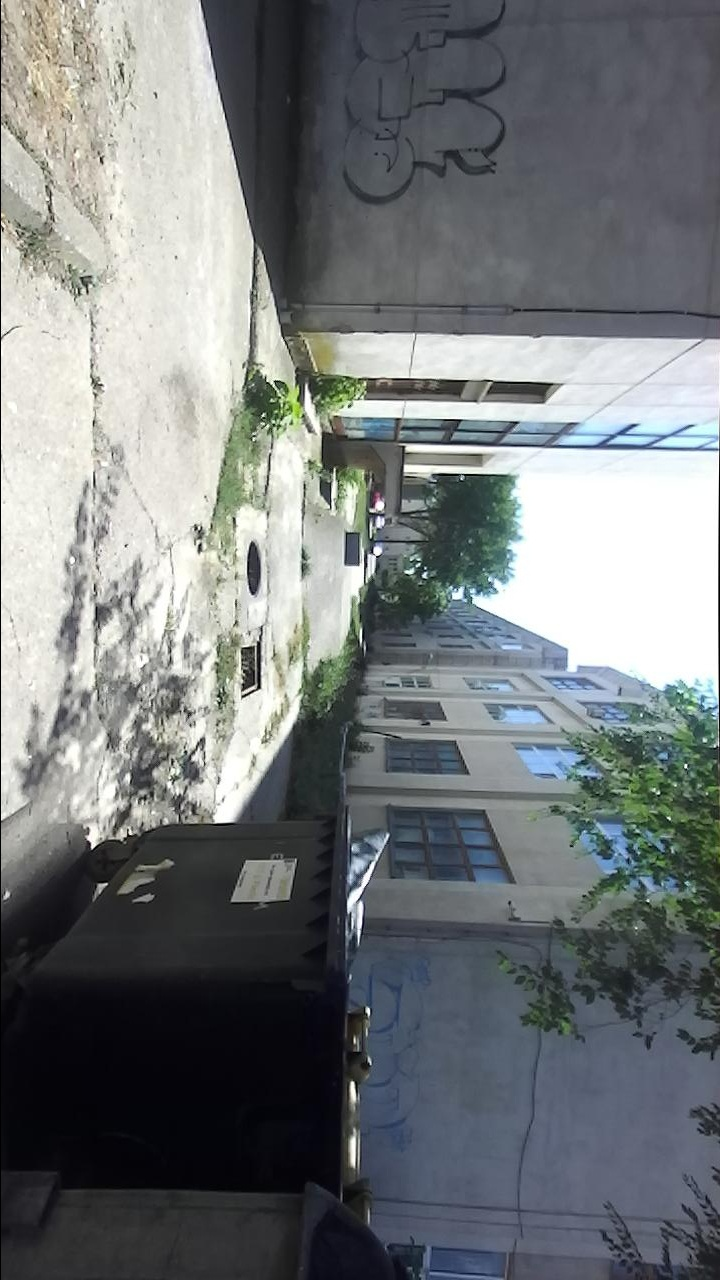drain: (243, 536, 269, 602), (238, 638, 264, 703)
